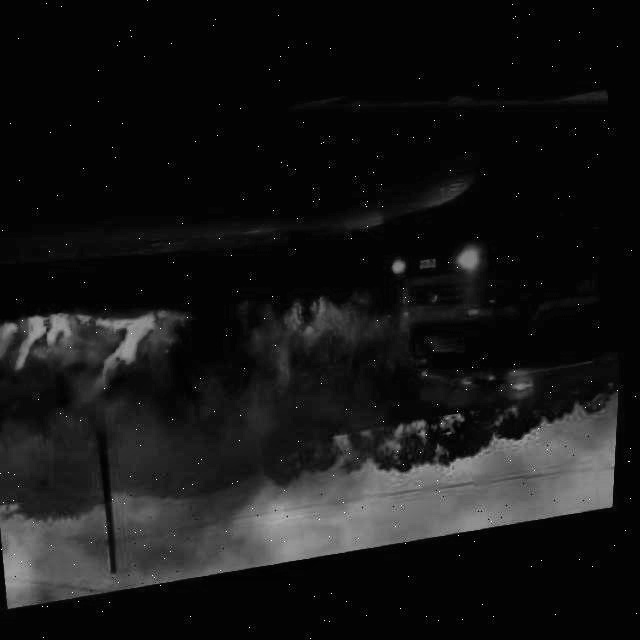Fire: (0, 277, 192, 415), (264, 287, 347, 372)
Smoke: (0, 353, 436, 623)
